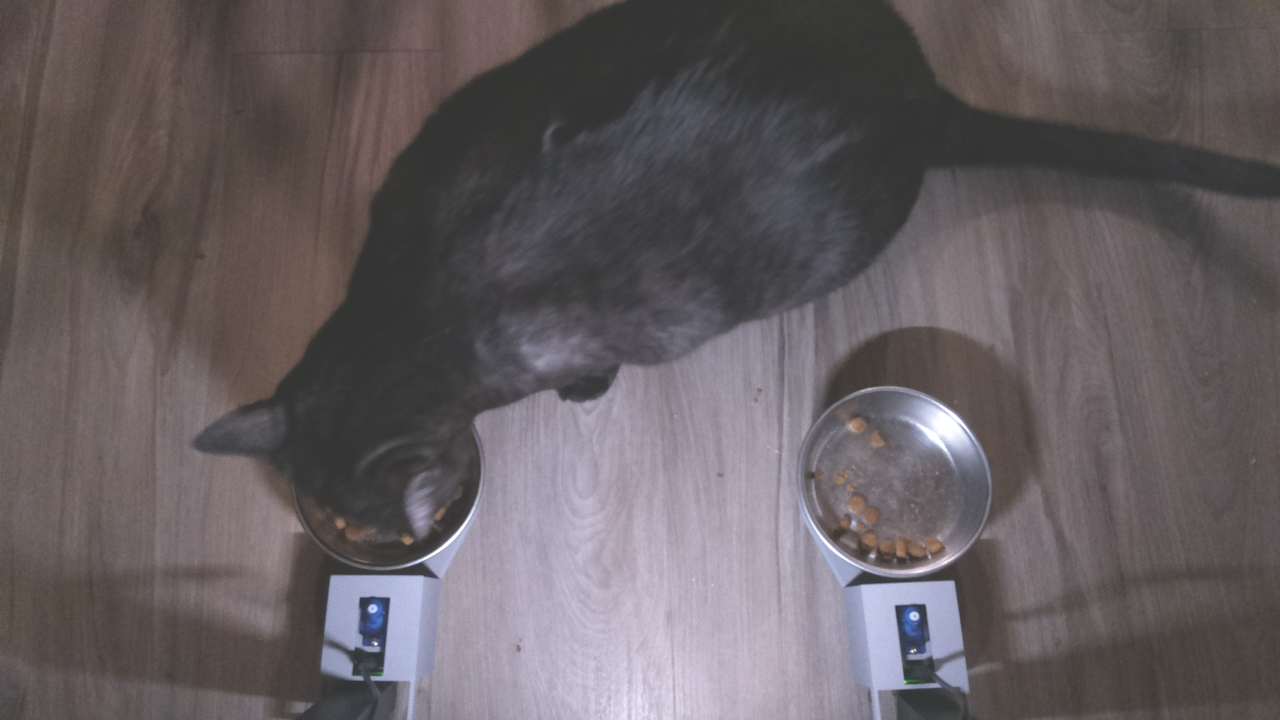open_bowl: (792, 379, 1002, 582)
saki_eating: (175, 319, 506, 578)
